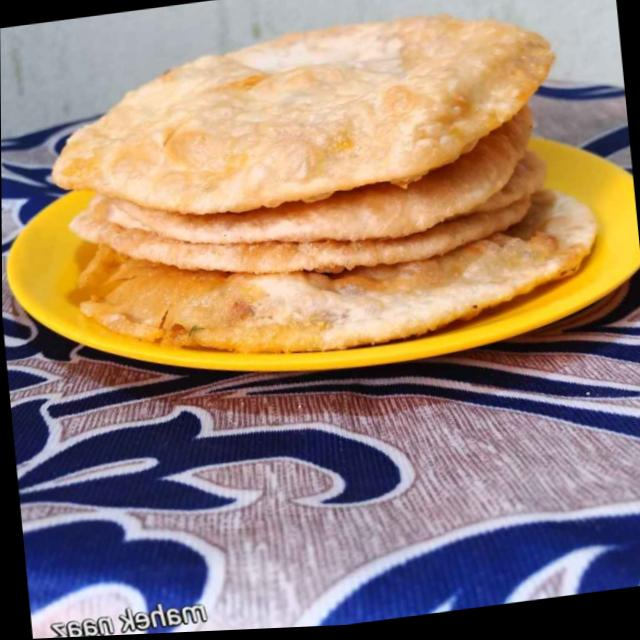POORI: (46, 14, 594, 350)
